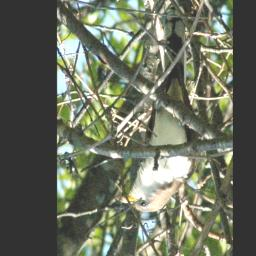Cuckoo: (114, 8, 201, 213)
